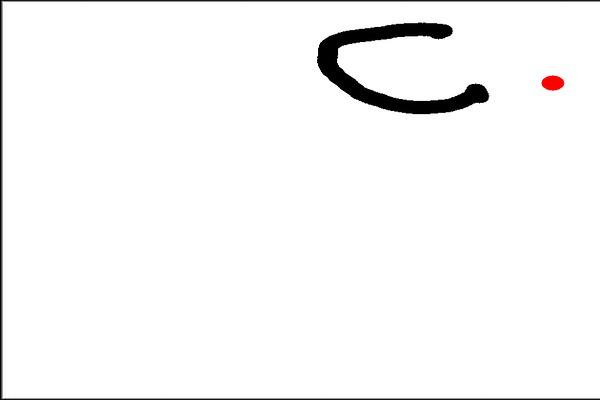C: (308, 13, 496, 121)
